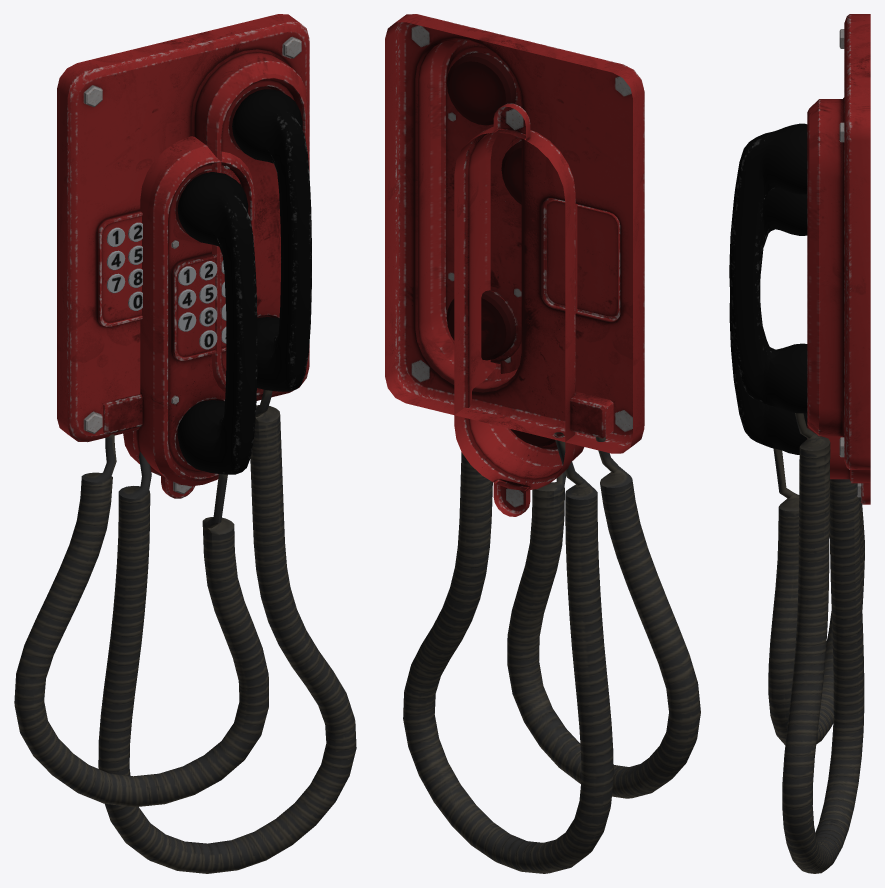
Rendered from phone_0002.fbx.
The picture shows the model from 3 angles, left to right: view 1: azimuth 30°, elevation 25°; view 2: azimuth 150°, elevation 25°; view 3: azimuth 270°, elevation 25°; orthographic projection. The views are drawn at different scales.
Parts seen in each view (by area): view 1: phone_0002a_LOD0, phone_0002b_LOD0; view 2: phone_0002a_LOD0, phone_0002b_LOD0; view 3: phone_0002a_LOD0, phone_0002b_LOD0.
Part boxes in pixels (x1,y1,x2,y2): phone_0002a_LOD0: (57,14,356,873); phone_0002b_LOD0: (14,136,268,807); phone_0002a_LOD0: (385,14,644,873); phone_0002b_LOD0: (454,103,700,798); phone_0002a_LOD0: (729,14,870,873); phone_0002b_LOD0: (729,187,870,744).
Size of what is drawn, in the model's own units: 0.3093 by 0.7775 by 0.1263.
